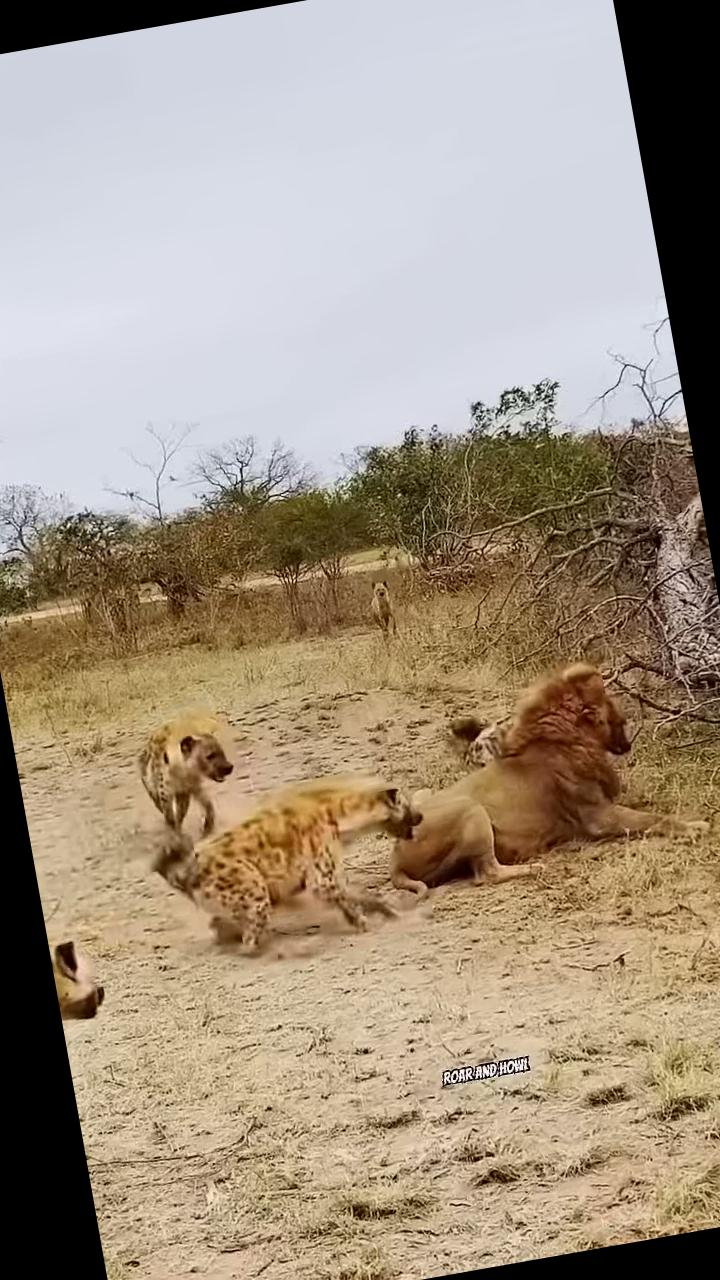hyenas: (106, 666, 450, 1036)
lions: (411, 569, 720, 945)
